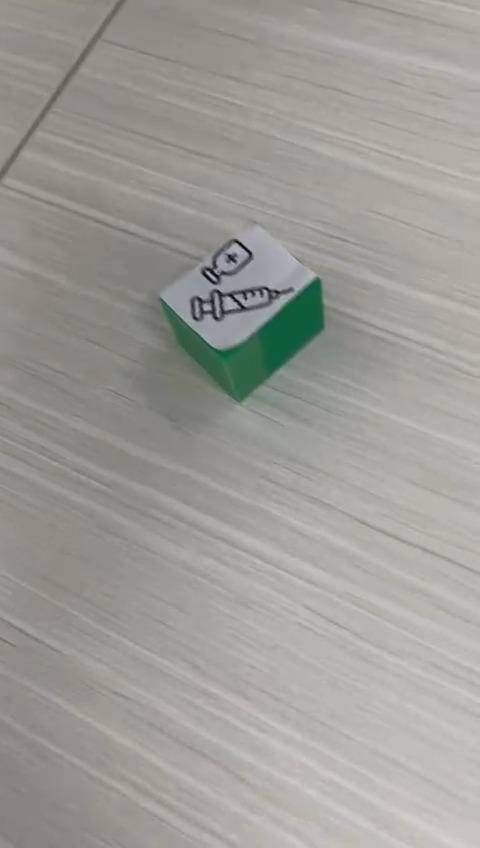antiseptic cream: (157, 220, 325, 404)
